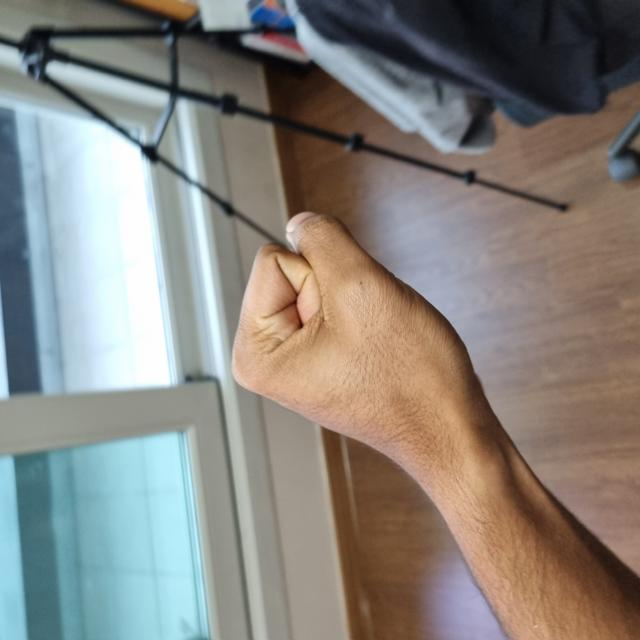Rock: (161, 232, 425, 485)
